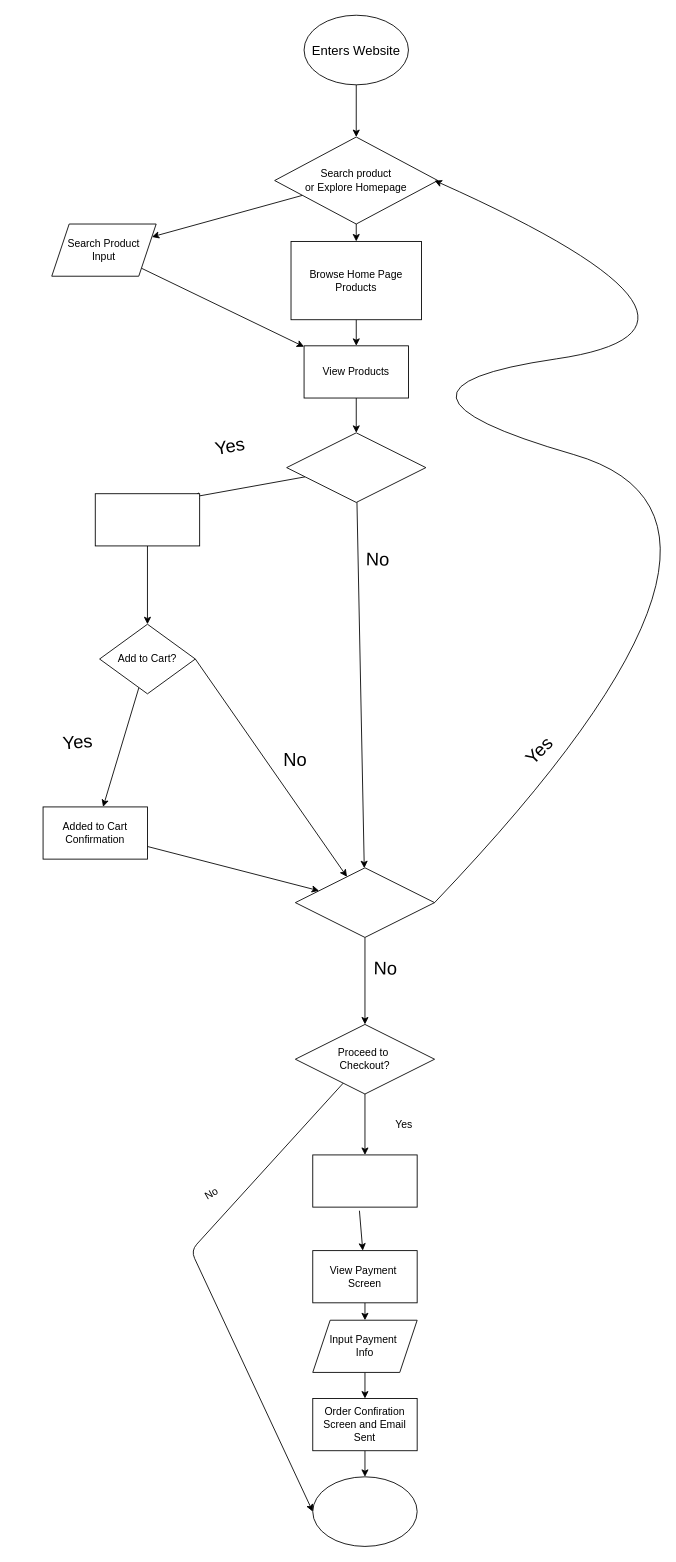
This 676x1562 diagram has some shape labels left out. The centre of each missing label's shape, as x and y in pixels:
"Continue shopping?" goes at (364,902).
"Exit Website" goes at (364,1511).
"Go to product page" goes at (147,519).
"View Cart" goes at (364,1180).
"View specific product?" goes at (356,467).
